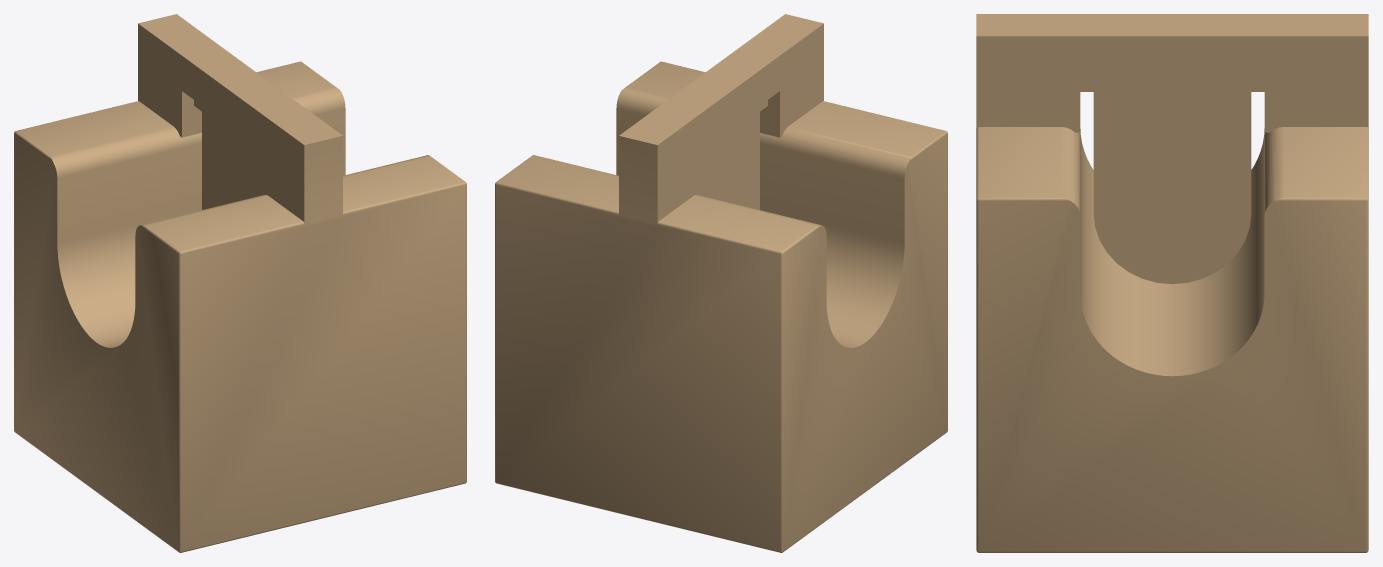
Rendered from mech_gate_oneway_l2.glb.
3 views of the same model, side by side, from view 1: azimuth 30°, elevation 25°; view 2: azimuth 150°, elevation 25°; view 3: azimuth 270°, elevation 25° (orthographic). The views are drawn at different scales.
Visible parts, largest first — view 1: mech_gate_oneway_l2_lod0, anim_flap_lod0; view 2: mech_gate_oneway_l2_lod0, anim_flap_lod0; view 3: mech_gate_oneway_l2_lod0, anim_flap_lod0.
Part boxes in pixels (x1,y1,x2,y2): mech_gate_oneway_l2_lod0: (14,14,466,552); anim_flap_lod0: (194,100,260,209); mech_gate_oneway_l2_lod0: (495,14,947,552); anim_flap_lod0: (701,100,767,209); mech_gate_oneway_l2_lod0: (976,14,1368,552); anim_flap_lod0: (1080,78,1264,284).
Size of what is drawn, in the model's own units: 0.0596 by 0.0748 by 0.0596.
